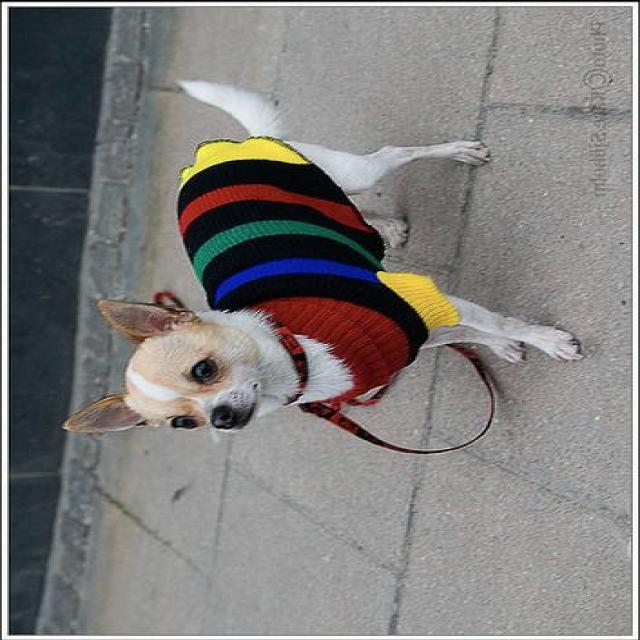chihuahua: (64, 80, 586, 430)
